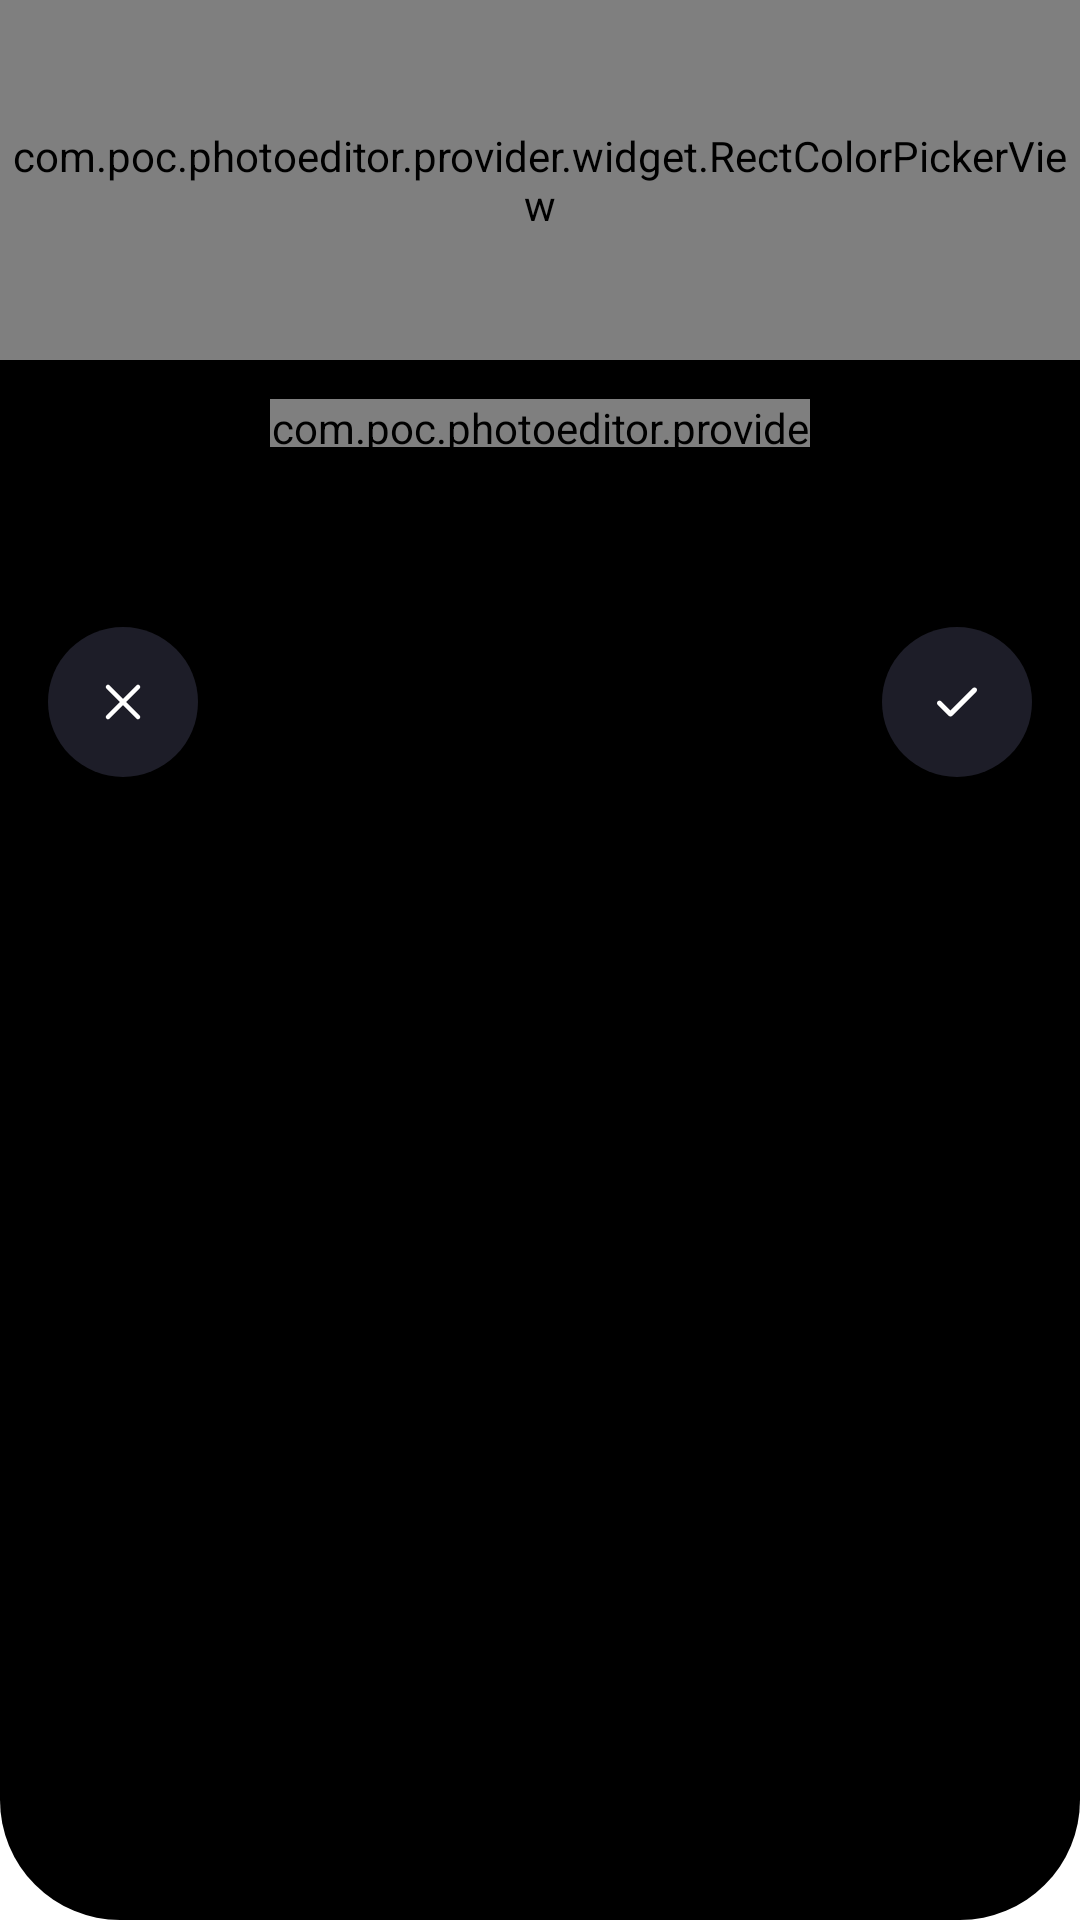

Screen size 1080px×1920px. Icon name, then its center in pixels as [x,y]:
edit check: [957,702]
edit close: [123,702]
